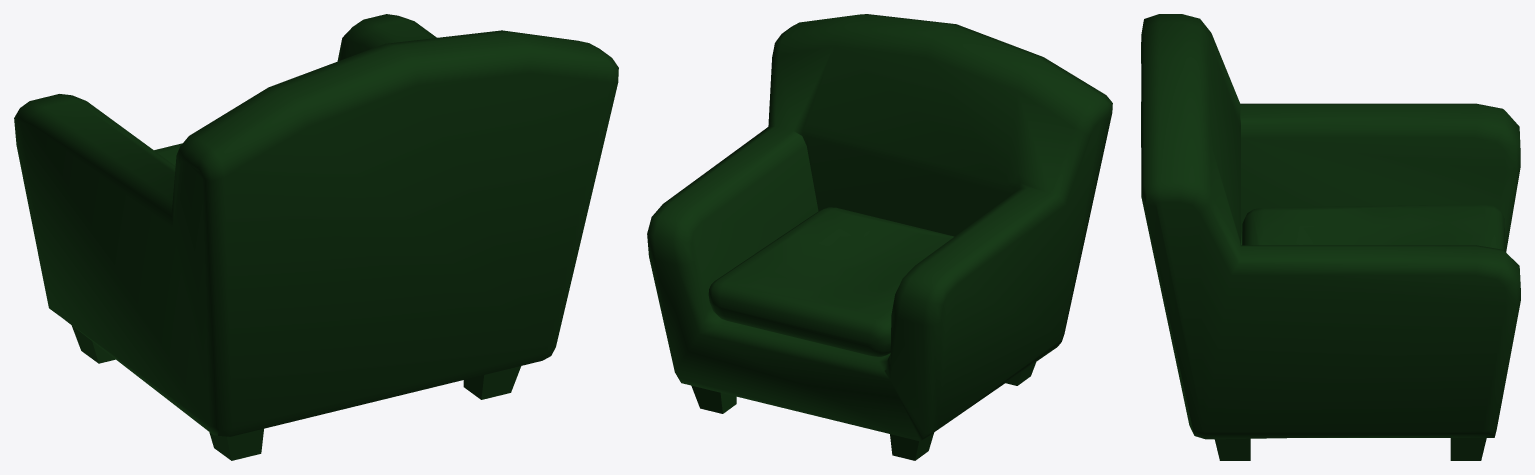
The model's file is sillón.FBX.
3 renders of one model, left to right at view 1: azimuth 30°, elevation 25°; view 2: azimuth 150°, elevation 25°; view 3: azimuth 270°, elevation 25°, orthographic. The views are drawn at different scales.
Visible parts, largest first — view 1: Box002; view 2: Box002; view 3: Box002.
Part boxes in pixels (x1,y1,x2,y2): Box002: [14, 14, 618, 460]; Box002: [647, 14, 1112, 460]; Box002: [1141, 14, 1520, 460].
Bounding box in the file's own units: 43.95 × 40.09 × 40.09.
